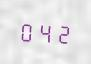four: (36, 19, 52, 44)
two: (53, 20, 69, 45)
zero: (18, 18, 34, 43)
